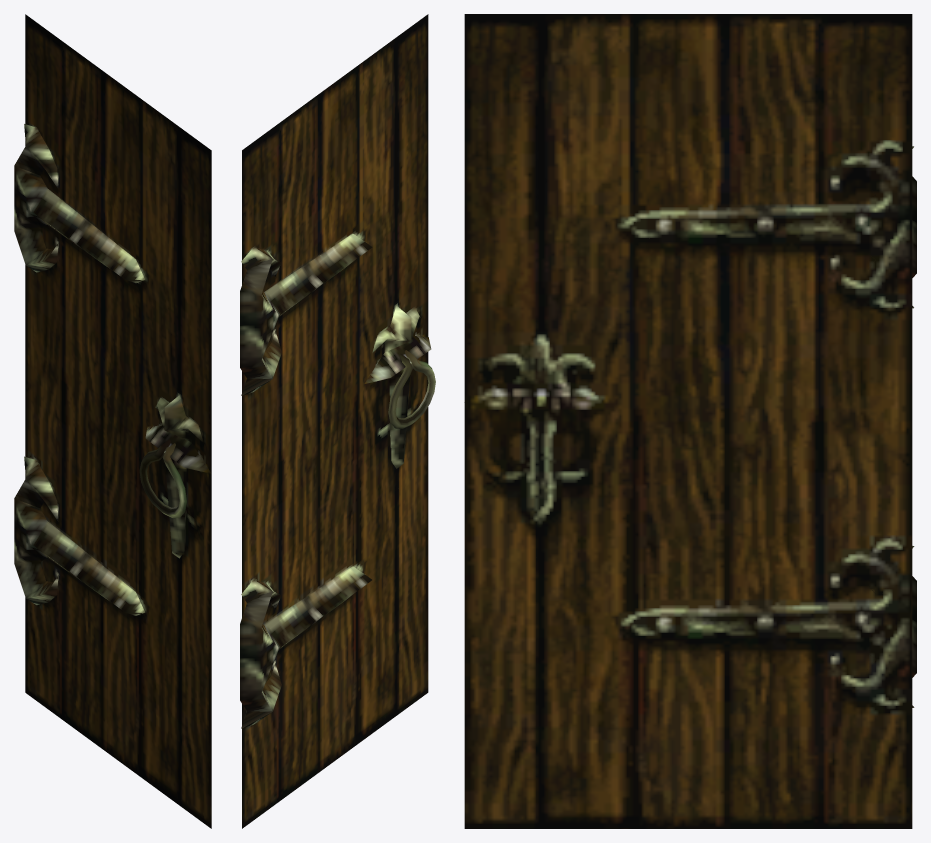
Rendered from INST_LT_DOOR_01.fbx.
The picture shows the model from 3 angles, left to right: view 1: azimuth 30°, elevation 25°; view 2: azimuth 150°, elevation 25°; view 3: azimuth 270°, elevation 25°; orthographic projection. The views are drawn at different scales.
Parts seen in each view (by area): view 1: INST_LT_DOOR_01; view 2: INST_LT_DOOR_01; view 3: INST_LT_DOOR_01.
Part boxes in pixels (x1=…): INST_LT_DOOR_01: x1=14, y1=14, x2=211, y2=828; INST_LT_DOOR_01: x1=240, y1=14, x2=435, y2=828; INST_LT_DOOR_01: x1=464, y1=14, x2=916, y2=828.
Size of the model in its own units: 700 by 22914 by 11542.
1 material, 1 textured.
